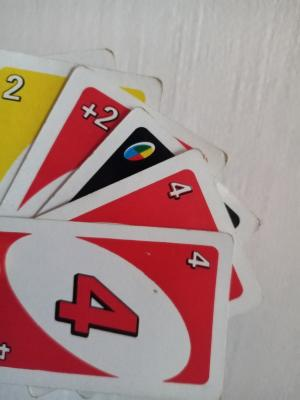-2: (72, 89, 122, 141)
colour: (121, 134, 164, 166)
num_2: (0, 66, 33, 111)
num_4: (158, 174, 199, 208), (1, 332, 20, 373)
